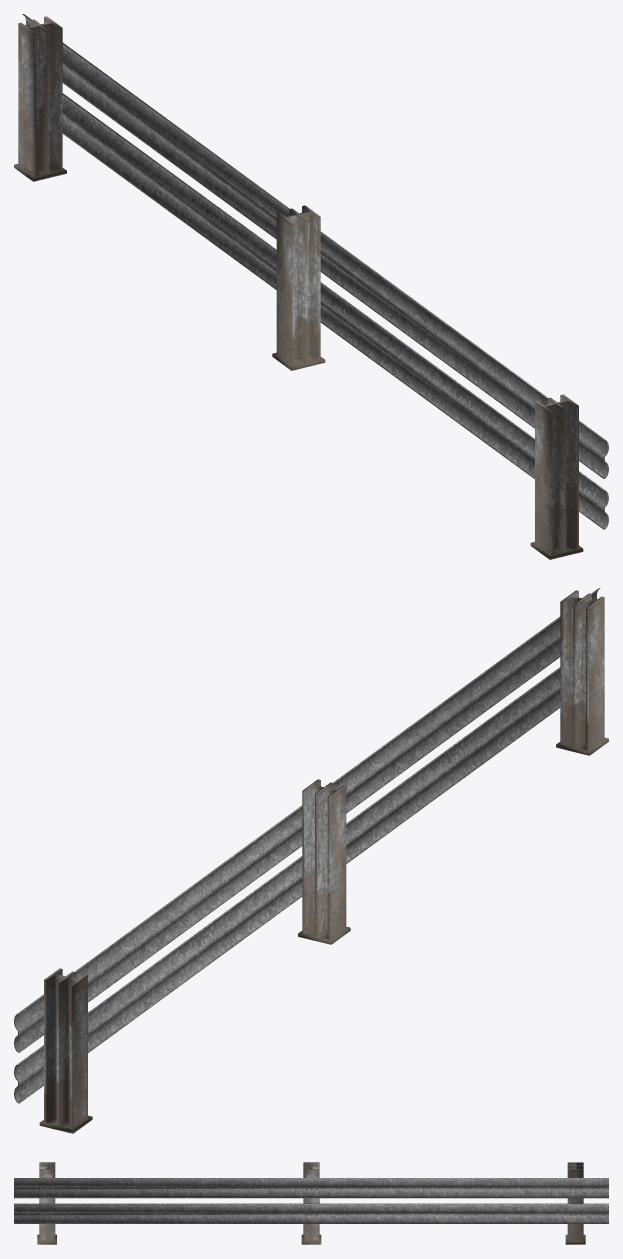
The model's file is Bankina.gltf.
3 renders of one model, top to bottom at view 1: azimuth 30°, elevation 25°; view 2: azimuth 150°, elevation 25°; view 3: azimuth 270°, elevation 25°, orthographic. The views are drawn at different scales.
Visible parts, largest first — view 1: Ograda, Stubovi; view 2: Ograda, Stubovi; view 3: Ograda, Stubovi, Srafovi.
Part boxes in pixels (box(x1,y1,x2,y2)): Ograda: box(22, 14, 608, 529); Stubovi: box(14, 16, 583, 559); Ograda: box(14, 588, 600, 1103); Stubovi: box(39, 590, 608, 1133); Ograda: box(14, 1178, 608, 1223); Stubovi: box(37, 1162, 585, 1244); Srafovi: box(40, 1187, 582, 1215).
Bounding box in the file's own units: 0.3248 × 1.24 × 9.01.
4 materials, 4 textured.
